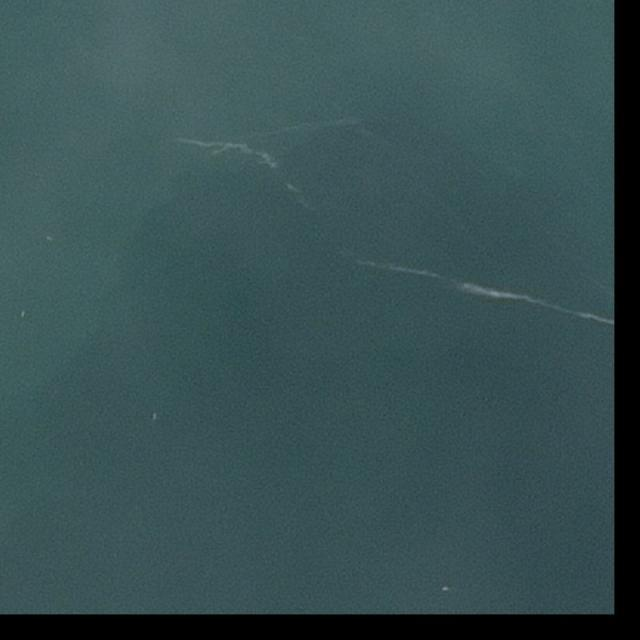ship: (18, 310, 30, 321), (441, 584, 453, 594), (150, 409, 159, 422), (46, 236, 54, 246)
